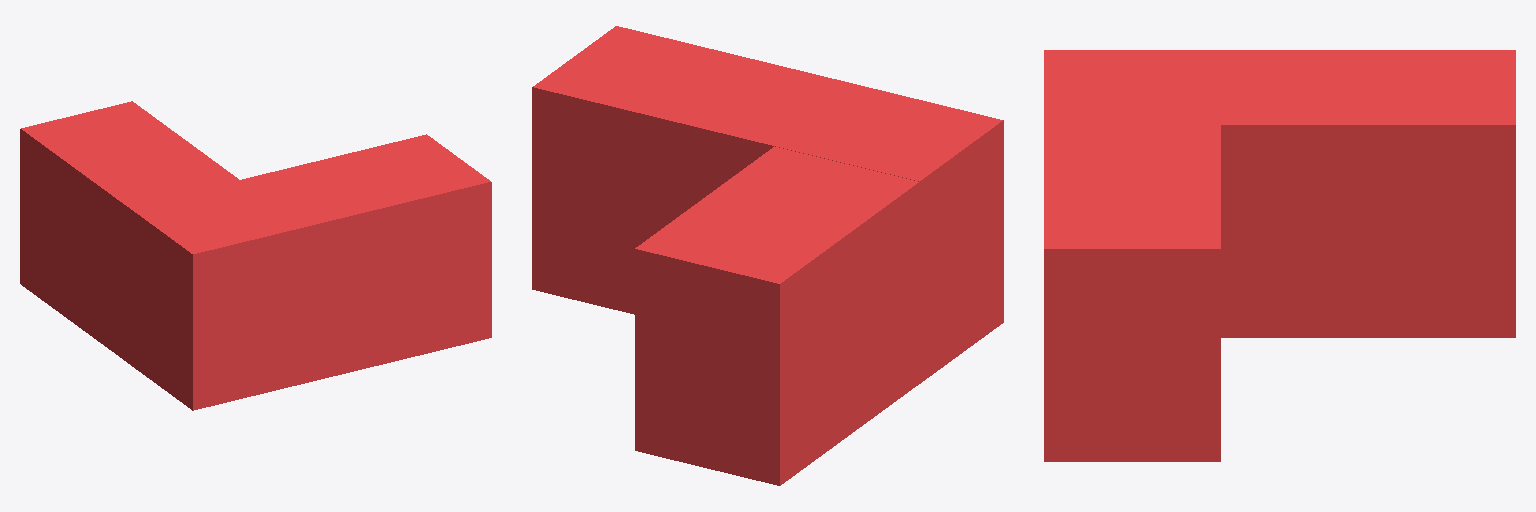
The robot description file, URDF, robot "ell.urdf":
<?xml version="0.0" ?>
<robot name="ell.urdf">
  <link name="baseLink">
    <contact>
      <lateral_friction value="0.3"/>
      <rolling_friction value="0.0001"/>
      <inertia_scaling value="3.0"/>
    </contact>
    <inertial>
      <origin rpy="0 0 0" xyz="0 0 0"/>
       <mass value=".1"/>
       <inertia ixx="1" ixy="0" ixz="0" iyy="1" iyz="0" izz="1"/>
    </inertial>

    <visual>
      <origin rpy="0 0 0" xyz="0.025 0 0"/>
      <geometry>
        <box size=".08 .03 .04"/>
      </geometry>
      <material name="red">
        <color rgba="1 0.3412 0.3490 1"/>
      </material>
    </visual>
    <collision>
      <origin rpy="0 0 0" xyz="0.025 0 0"/>
      <geometry>
        <box size=".08 .03 .04"/>
      </geometry>
    </collision>

    <visual>
      <origin rpy="0 0 0" xyz="0 0.025 0"/>
      <geometry>
        <box size=".03 .08 .0399"/>
      </geometry>
      <material name="red">
        <color rgba="1 0.3412 0.3490 1"/>
      </material>
    </visual>
    <collision>
      <origin rpy="0 0 0" xyz="0 0.025 0"/>
      <geometry>
        <box size=".03 .08 .0399"/>
      </geometry>
    </collision>
  </link>
</robot>

--- Facts derived from the render (not from the file) ---
The picture shows the robot from 3 angles, left to right: view 1: azimuth 30°, elevation 25°; view 2: azimuth 150°, elevation 25°; view 3: azimuth 270°, elevation 25°; orthographic projection.
Model ell.urdf with 1 links and 0 joints (none), rooted at baseLink, posed every joint at zero.
Visible links, largest first — view 1: baseLink; view 2: baseLink; view 3: baseLink.
Boxes of the visible links, x1,y1,x2,y2 form: baseLink: (20, 101, 491, 410); baseLink: (532, 26, 1003, 485); baseLink: (1044, 50, 1515, 461).
Bounding box of the posed robot: 0.08 × 0.08 × 0.04 m (x, y, z).
Geometry: primitives only (box / cylinder / sphere), no mesh files.